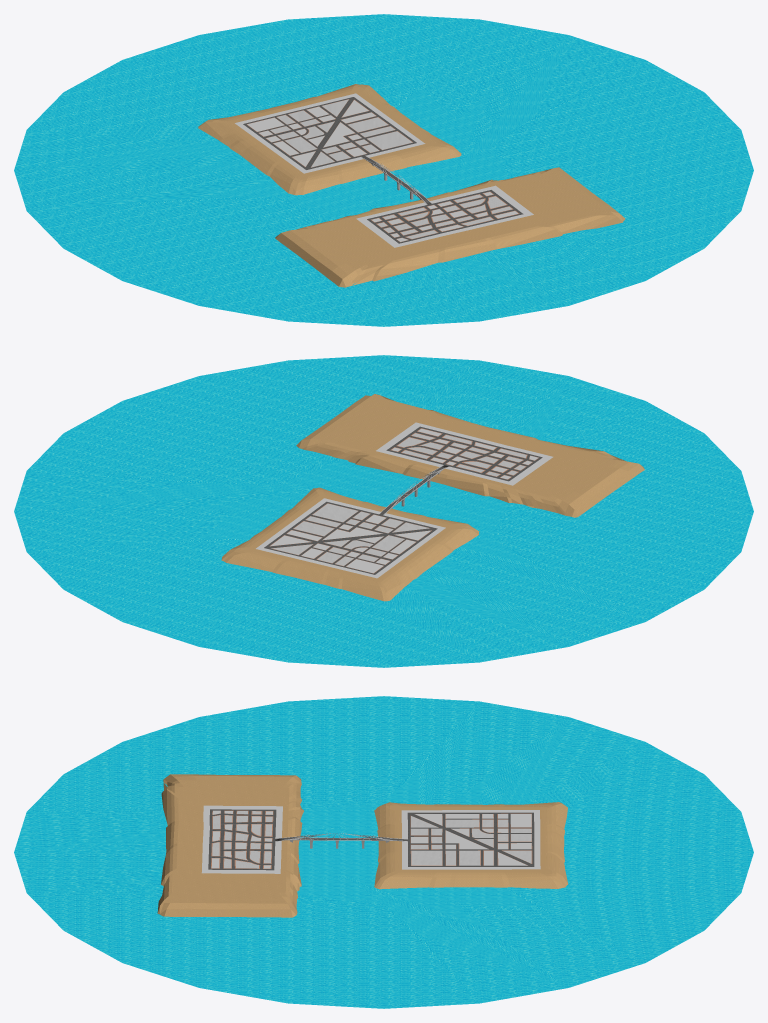
Rendered from tuk yuk env.fbx.
The picture shows the model from 3 angles, top to bottom: view 1: azimuth 30°, elevation 25°; view 2: azimuth 150°, elevation 25°; view 3: azimuth 270°, elevation 25°; orthographic projection.
Visible parts, largest first — view 1: pDisc1, polySurface239, polySurface236, polySurface235, polySurface238, Bridge; view 2: pDisc1, polySurface239, polySurface236, polySurface235, polySurface238, Bridge; view 3: pDisc1, polySurface239, polySurface236, polySurface235, polySurface238, Bridge.
Part boxes in pixels (x1,y1,x2,y2): pDisc1: (14,14,753,326); polySurface239: (275,167,625,287); polySurface236: (198,84,461,195); polySurface235: (235,93,425,173); polySurface238: (356,185,533,247); Bridge: (361,156,431,204); pDisc1: (14,355,753,667); polySurface239: (296,394,644,517); polySurface236: (221,487,479,601); polySurface235: (256,498,445,578); polySurface238: (376,422,552,485); Bridge: (379,465,448,515); pDisc1: (14,696,753,1008); polySurface239: (157,774,303,917); polySurface236: (374,802,568,889); polySurface235: (401,810,540,869); polySurface238: (201,805,282,873); Bridge: (275,833,407,848).
Size of the model in its own units: 22090 by 886 by 22090.
